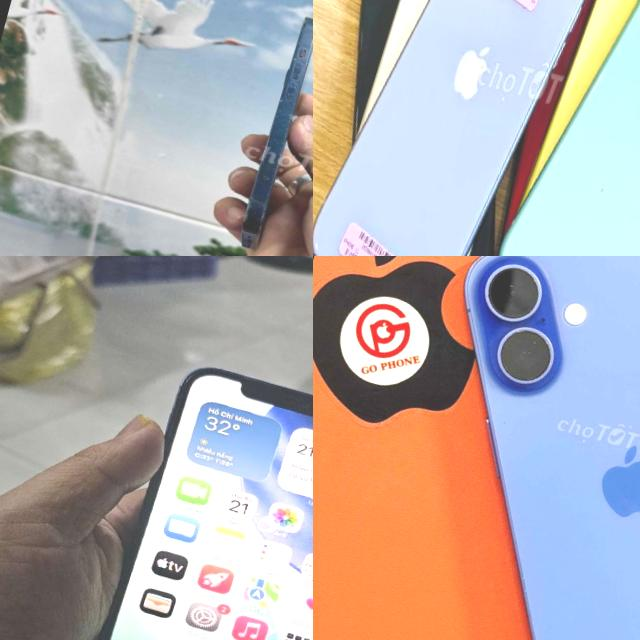gen_12_13: (80, 348, 313, 640), (223, 6, 313, 256)
gen_14: (313, 0, 629, 256)
gen_16: (334, 256, 640, 640)
